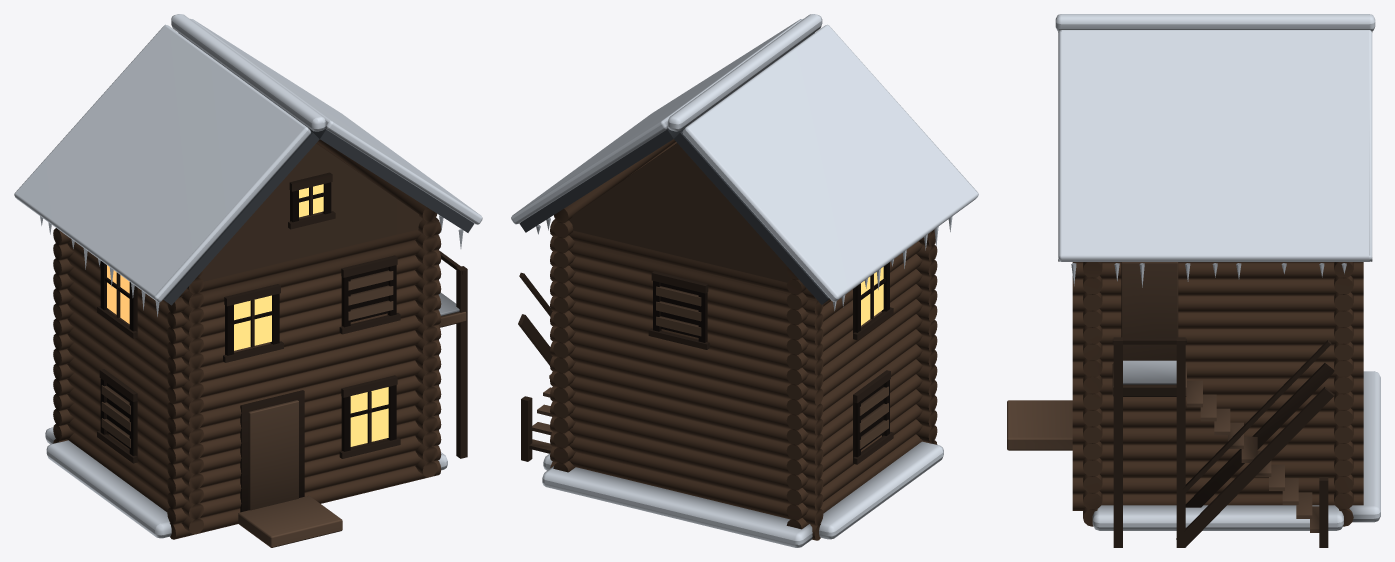
Rendered from cabin_two_storey.glb.
The picture shows the model from 3 angles, left to right: view 1: azimuth 30°, elevation 25°; view 2: azimuth 150°, elevation 25°; view 3: azimuth 270°, elevation 25°; orthographic projection. The views are drawn at different scales.
Visible parts, largest first — view 1: CabinTwoStorey; view 2: CabinTwoStorey; view 3: CabinTwoStorey.
Boxes of the visible parts, <box> form: CabinTwoStorey: <box>14,14,482,547</box>; CabinTwoStorey: <box>511,14,978,547</box>; CabinTwoStorey: <box>1007,14,1380,547</box>.
Size of the model in its own units: 7.51 by 8.51 by 6.55.
